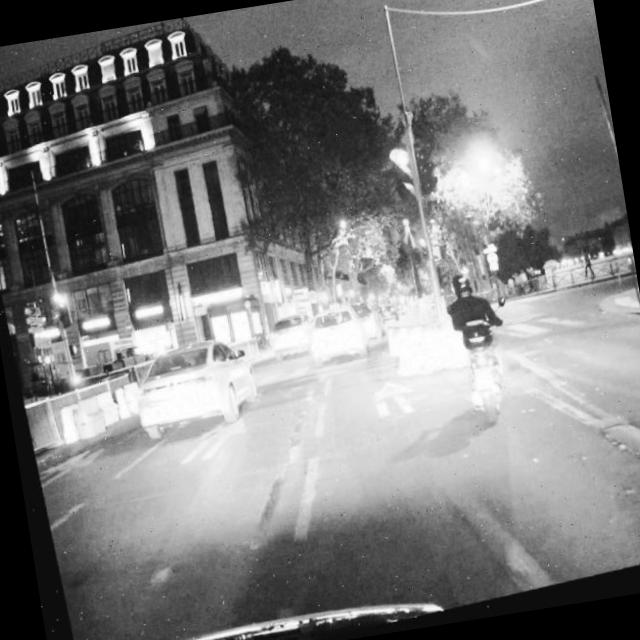Truck: (79, 337, 141, 372)
